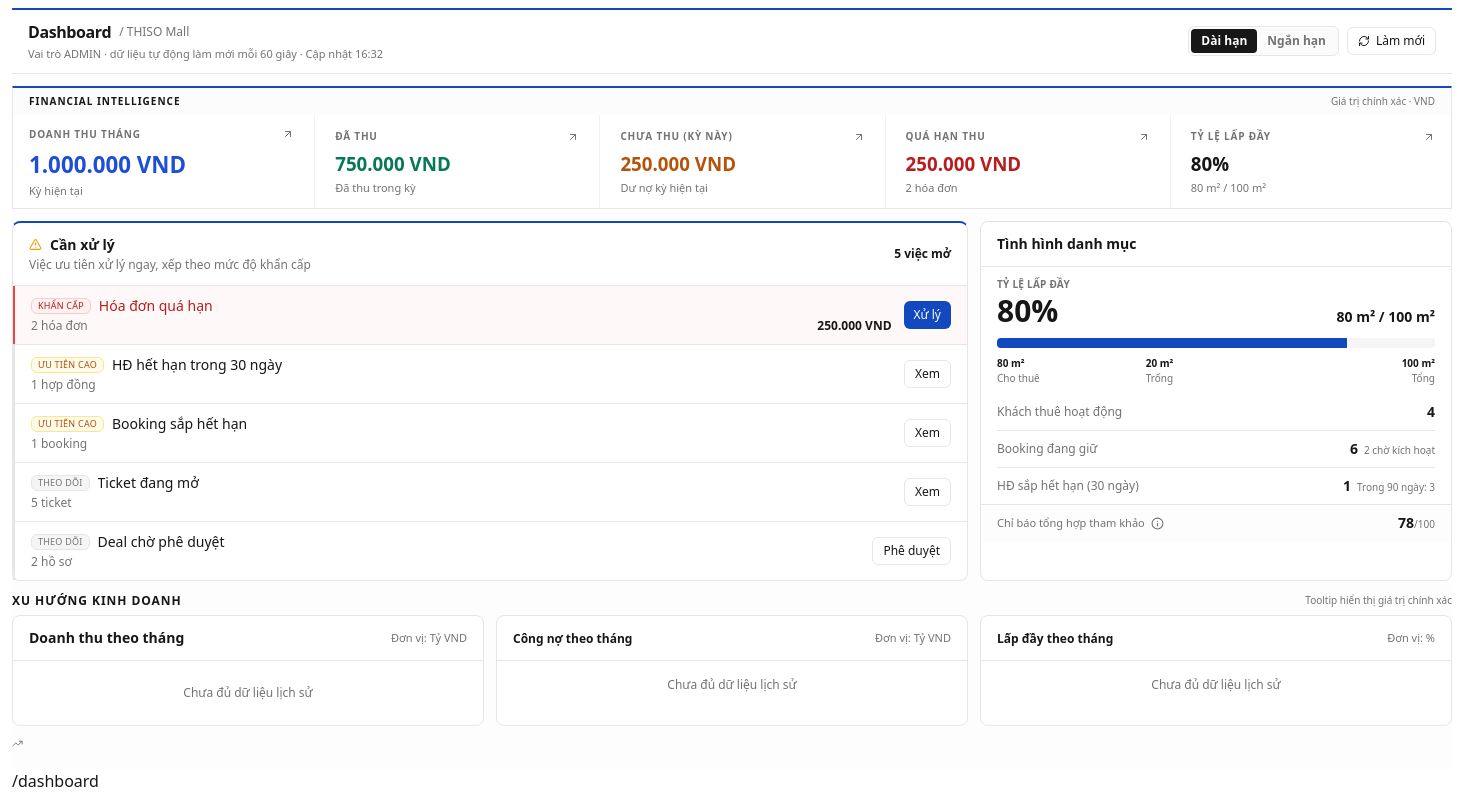
Scenario: DashboardPage › renders consolidated booking data and navigates from an action item
Check: the text "Booking đang giữ" is shown, box [997, 439, 1097, 459]
Check: the text "6" is shown, box [1350, 439, 1358, 458]
Click the button "Xử lý": (927, 315) [904, 301, 951, 329]
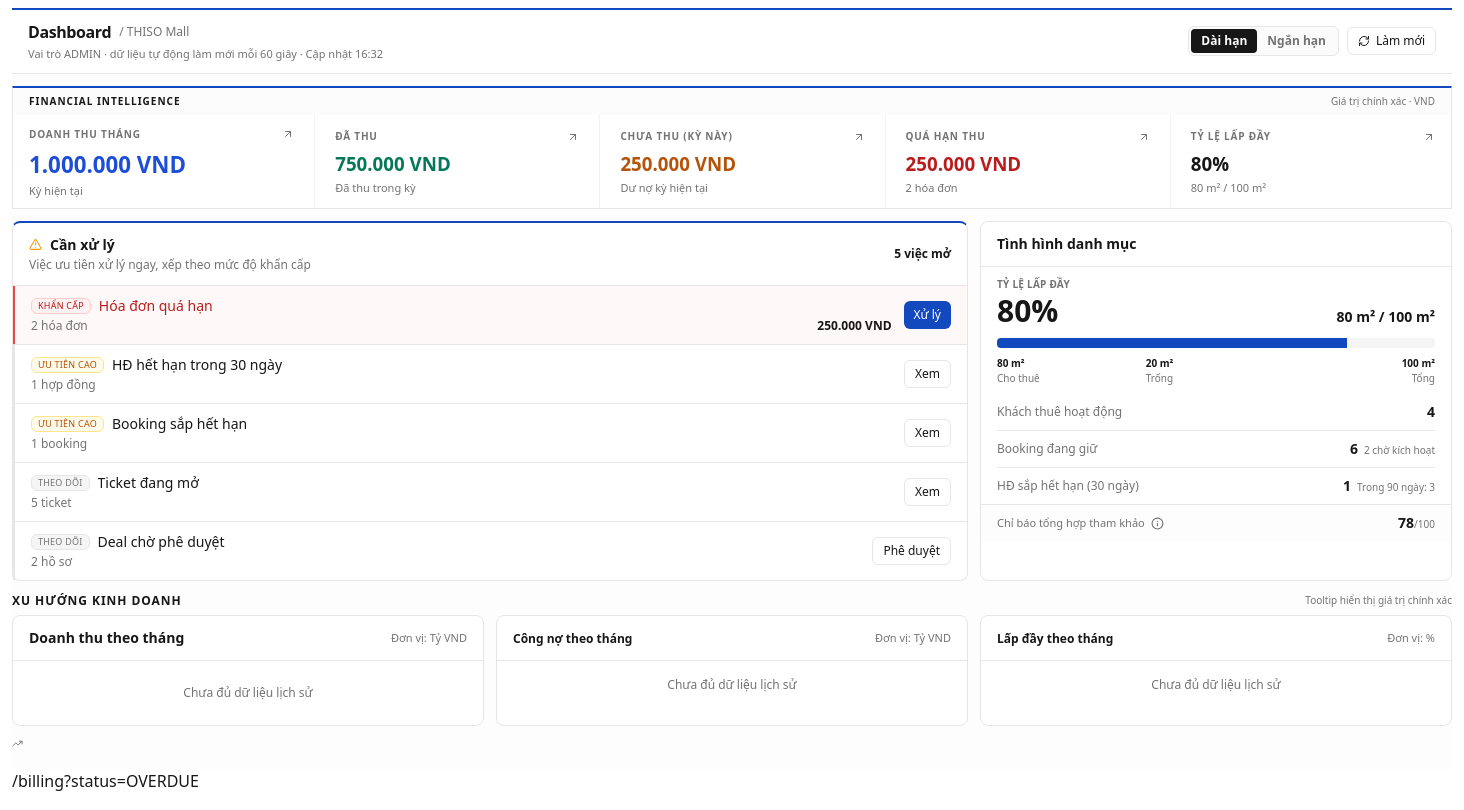
Check: the text with test id "location" reads "/billing?status=OVERDUE", box [12, 770, 199, 792]
